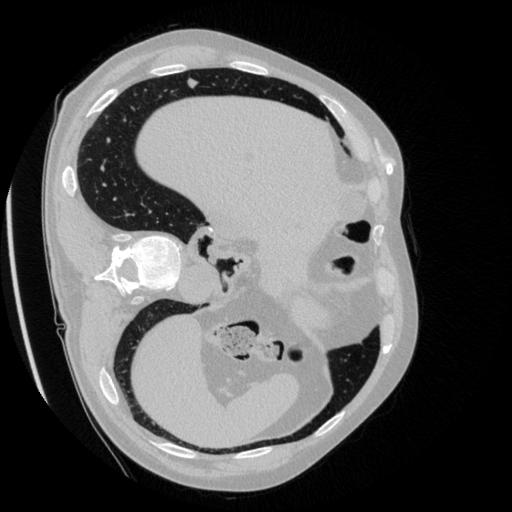nodule: (185, 75, 203, 93)
